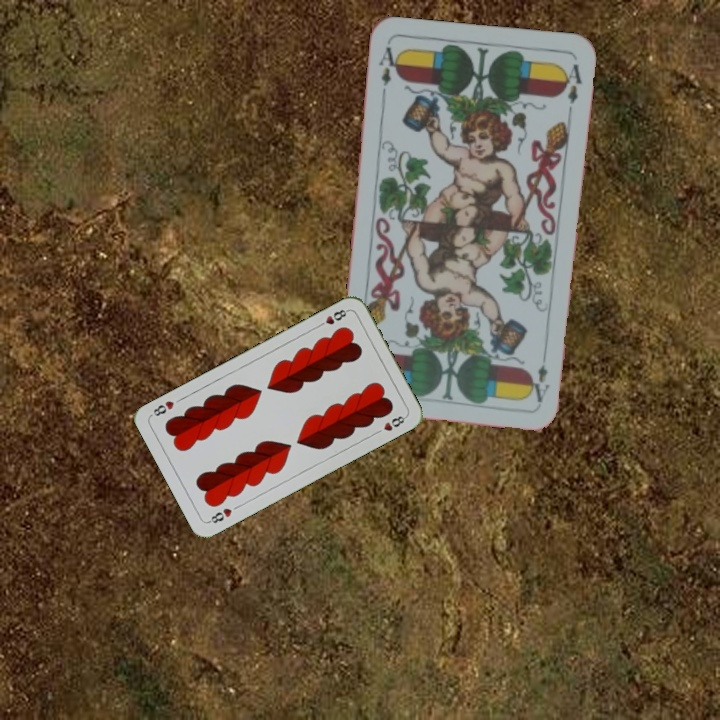EA: (375, 42, 402, 99), (530, 346, 552, 405)
H8: (314, 305, 351, 330), (204, 504, 235, 526)
